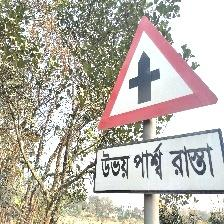Crossroad: (92, 12, 224, 200)
